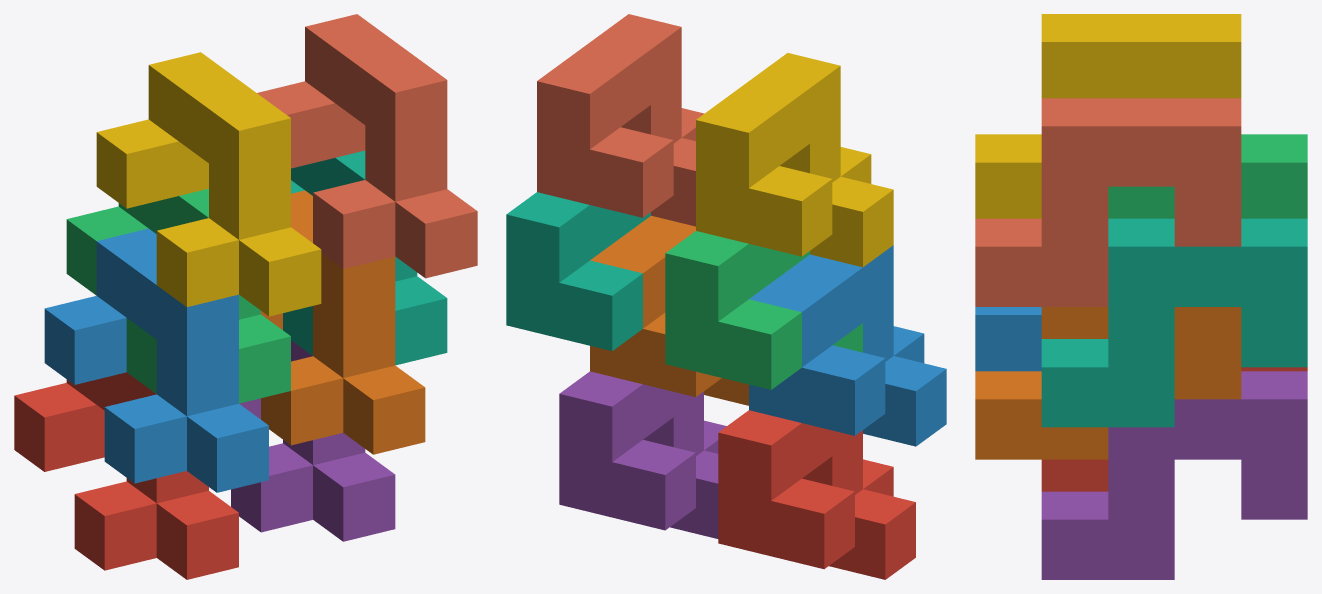
Rendered from tiling.obj.
The picture shows the model from 3 angles, left to right: view 1: azimuth 30°, elevation 25°; view 2: azimuth 150°, elevation 25°; view 3: azimuth 270°, elevation 25°; orthographic projection. The views are drawn at different scales.
Visible parts, largest first — view 1: copy_1_domain_4, copy_1_domain_8, copy_1_domain_2, copy_1_domain_1, copy_1_domain_6, copy_1_domain_5, copy_1_domain_3, copy_1_domain_7; view 2: copy_1_domain_4, copy_1_domain_8, copy_1_domain_1, copy_1_domain_2, copy_1_domain_5, copy_1_domain_3, copy_1_domain_7, copy_1_domain_6; view 3: copy_1_domain_8, copy_1_domain_7, copy_1_domain_5, copy_1_domain_4, copy_1_domain_6, copy_1_domain_3, copy_1_domain_2, copy_1_domain_1.
Part boxes in pixels (x1,y1,x2,y2): copy_1_domain_4: (96, 52, 321, 316); copy_1_domain_8: (257, 14, 477, 278); copy_1_domain_2: (44, 228, 268, 492); copy_1_domain_1: (14, 372, 238, 579); copy_1_domain_6: (261, 190, 425, 454); copy_1_domain_5: (231, 340, 395, 541); copy_1_domain_3: (66, 188, 290, 403); copy_1_domain_7: (283, 150, 447, 365); copy_1_domain_4: (696, 53, 893, 267); copy_1_domain_8: (537, 14, 704, 226); copy_1_domain_1: (718, 410, 915, 579); copy_1_domain_2: (749, 245, 946, 446); copy_1_domain_5: (559, 371, 726, 538); copy_1_domain_3: (665, 231, 862, 389); copy_1_domain_7: (506, 192, 650, 350); copy_1_domain_6: (590, 215, 748, 405); copy_1_domain_8: (975, 98, 1241, 306); copy_1_domain_7: (1041, 218, 1307, 427); copy_1_domain_5: (1041, 371, 1307, 579); copy_1_domain_4: (975, 14, 1241, 218); copy_1_domain_6: (975, 307, 1241, 459); copy_1_domain_3: (1108, 134, 1307, 218); copy_1_domain_2: (975, 307, 1041, 371); copy_1_domain_1: (1041, 367, 1307, 491).
Size of the model in its own units: 6 by 8 by 5.
